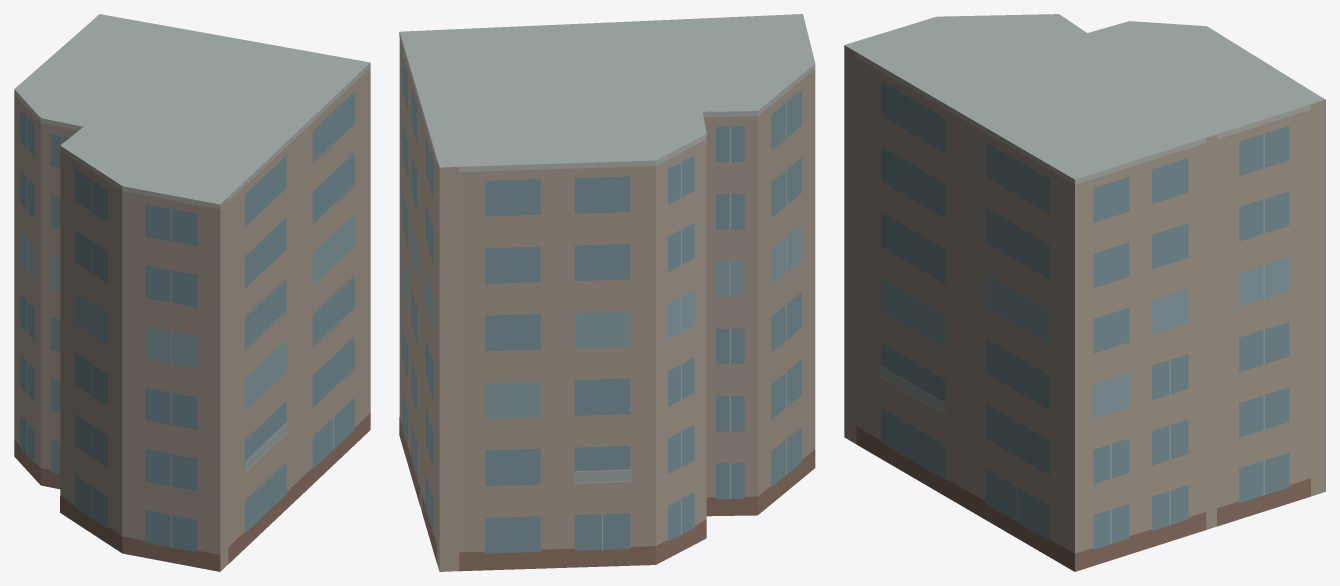
Rendered from survey-upis-32782810.glb.
The picture shows the model from 3 angles, left to right: view 1: azimuth 30°, elevation 25°; view 2: azimuth 150°, elevation 25°; view 3: azimuth 270°, elevation 25°; orthographic projection. The views are drawn at different scales.
Parts seen in each view (by area): view 1: survey-upis-32782810.tmp; view 2: survey-upis-32782810.tmp; view 3: survey-upis-32782810.tmp.
Part boxes in pixels (bbox=[...]): survey-upis-32782810.tmp: bbox=[14, 14, 370, 571]; survey-upis-32782810.tmp: bbox=[399, 14, 815, 571]; survey-upis-32782810.tmp: bbox=[844, 14, 1325, 571].
Bounding box in the file's own units: 16.58 × 18.3 × 20.37.
